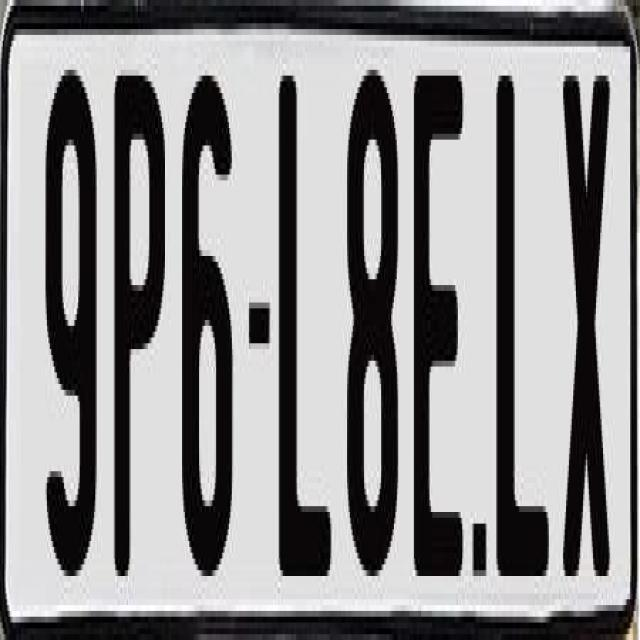6: (182, 58, 235, 594)
8: (344, 58, 404, 570)
9: (46, 52, 106, 582)
E: (410, 76, 460, 612)
L: (495, 70, 556, 588), (277, 58, 337, 570)
P: (112, 76, 165, 582)
X: (562, 58, 613, 559)
